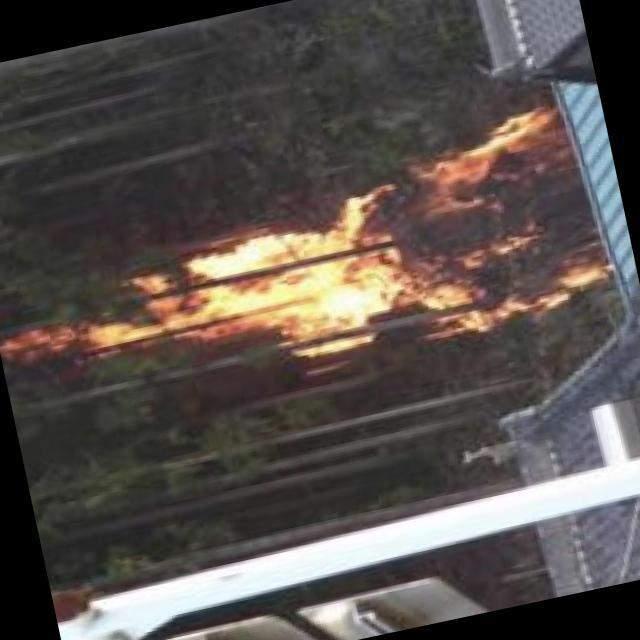Fire: (1, 107, 608, 423)
